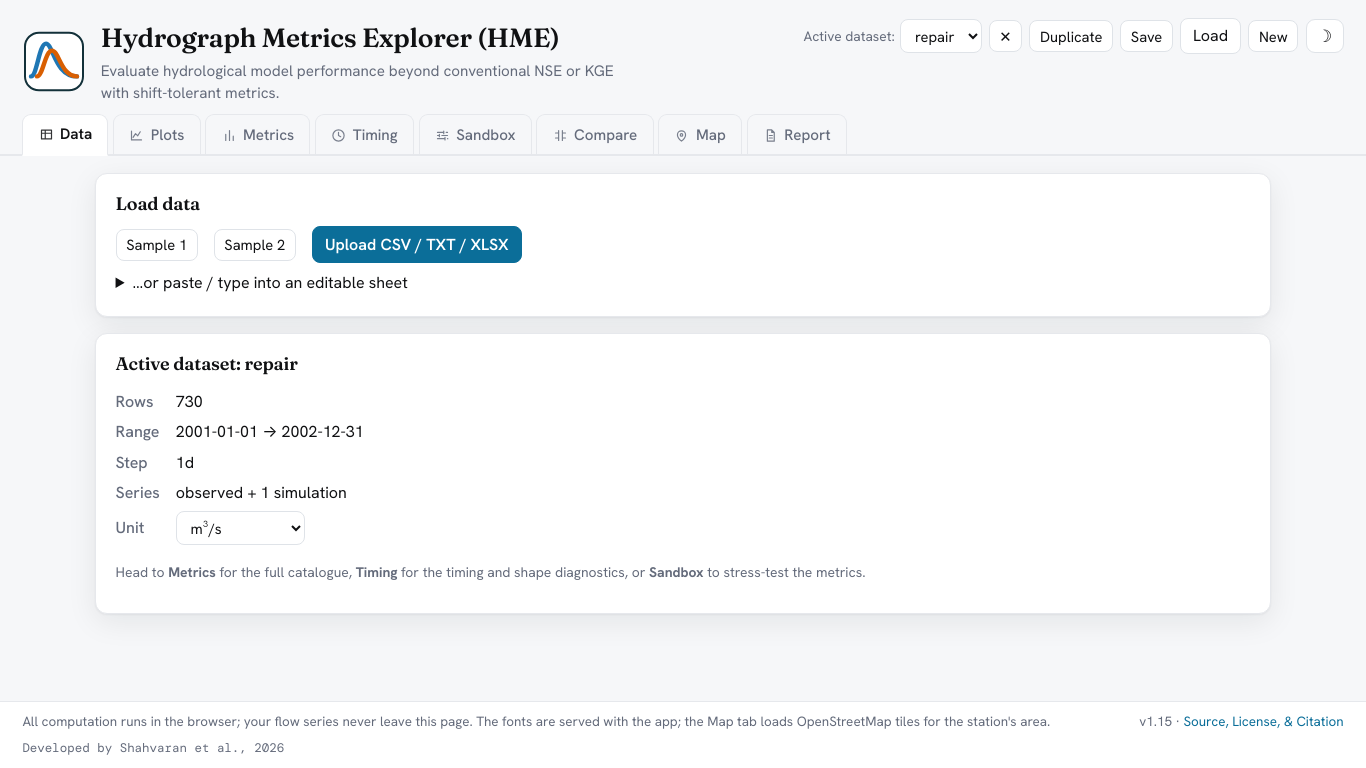
Test: plots-01-r1: out-of-season steps are never filled by the NaN policy › no season: the zero policy still fills every missing value, as in the metrics
What coordinates should you click on to do the following:
click the tab "Plots"
I would click on:
 (157, 135)
Its box is [113,114,201,156].
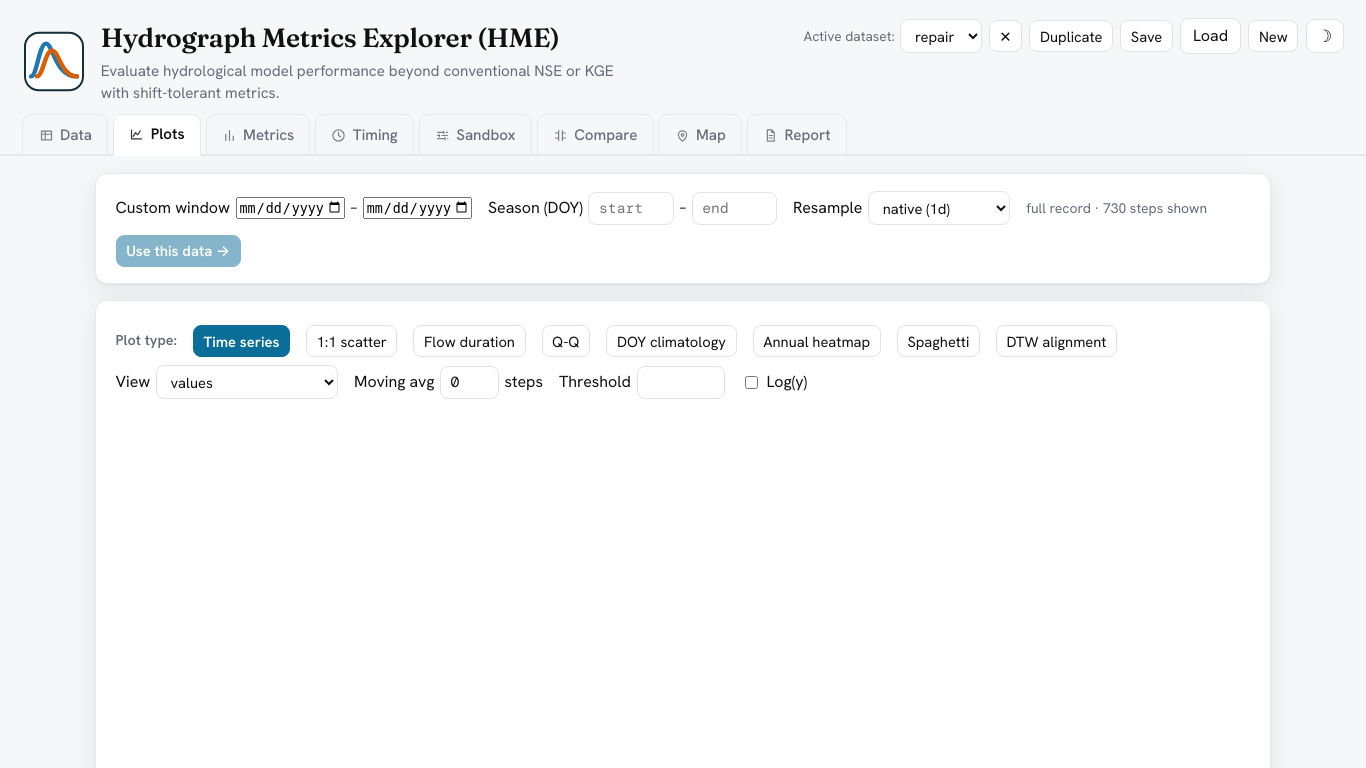
What coordinates should you click on to do the following:
click the button "Flow duration"
I would click on:
 (470, 341)
Its box is [414,325,526,357].
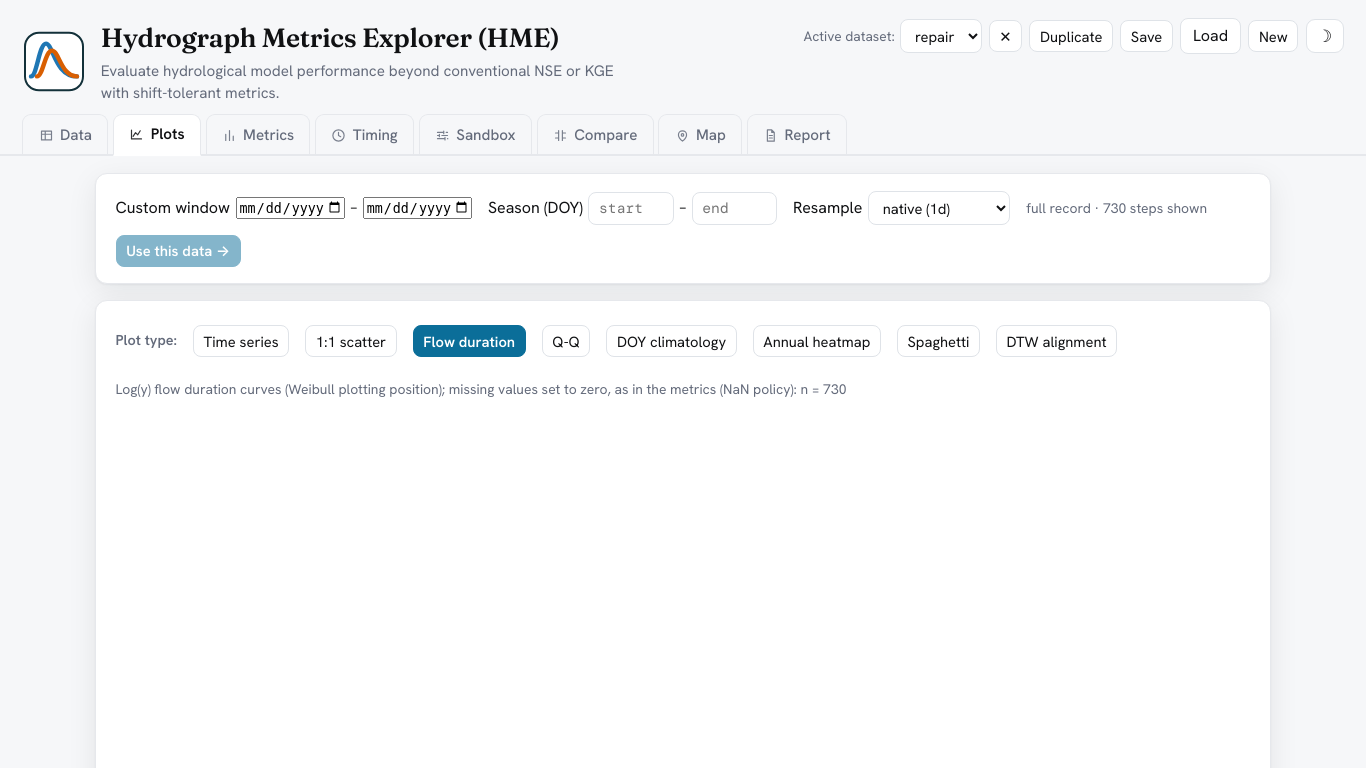
Result: the text "missing values set to zero, as in the metrics (NaN policy): n = 730" is shown at [116,380,846,398]
